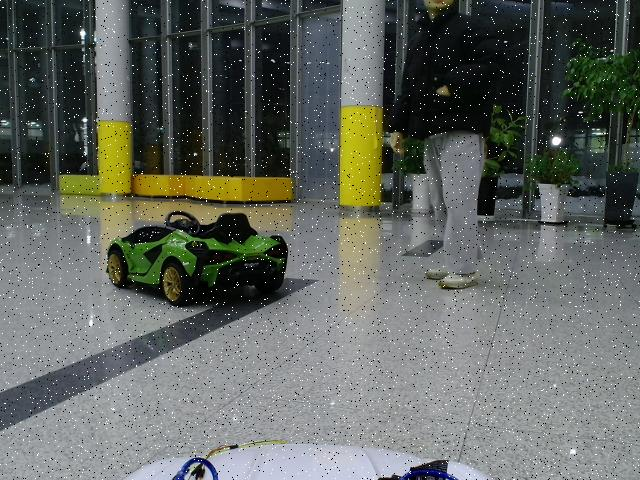car: (106, 212, 290, 306)
